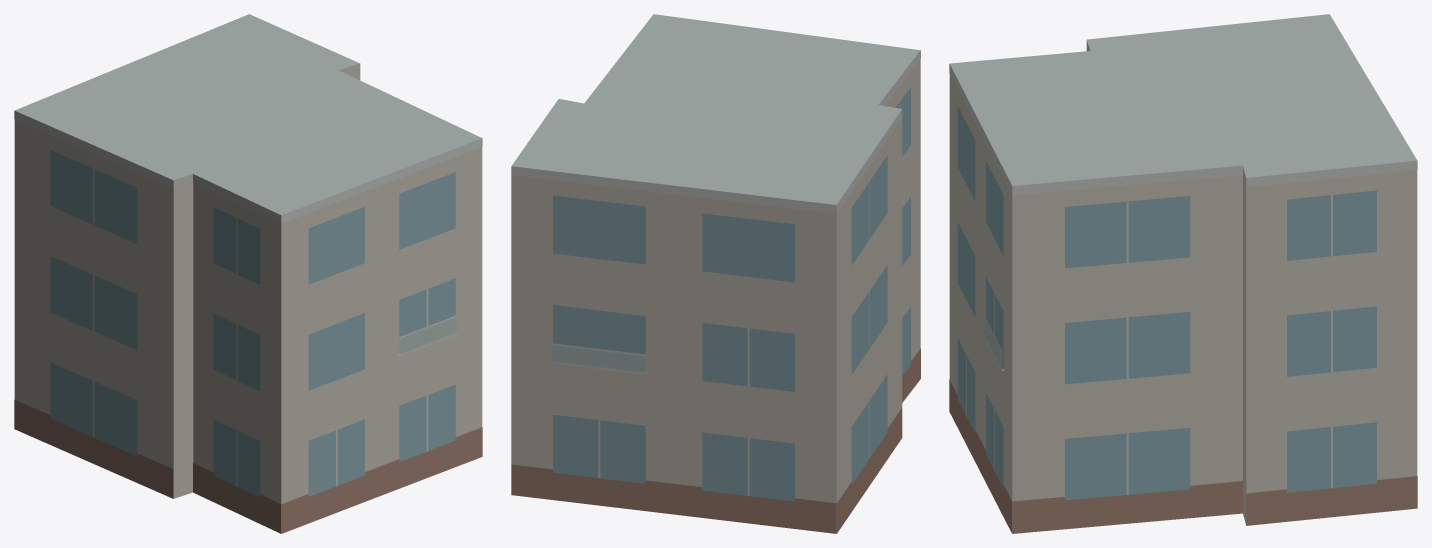
File: survey-upis-32814395.glb
3 renders of one model, left to right at view 1: azimuth 30°, elevation 25°; view 2: azimuth 150°, elevation 25°; view 3: azimuth 270°, elevation 25°, orthographic. The views are drawn at different scales.
Visible parts, largest first — view 1: survey-upis-32814395.tmp; view 2: survey-upis-32814395.tmp; view 3: survey-upis-32814395.tmp.
Boxes of the visible parts, box(x1,y1,x2,y2) form: survey-upis-32814395.tmp: box(14, 14, 482, 533); survey-upis-32814395.tmp: box(511, 14, 920, 533); survey-upis-32814395.tmp: box(949, 14, 1417, 533).
Bounding box in the file's own units: 9.71 × 9.15 × 11.17.
